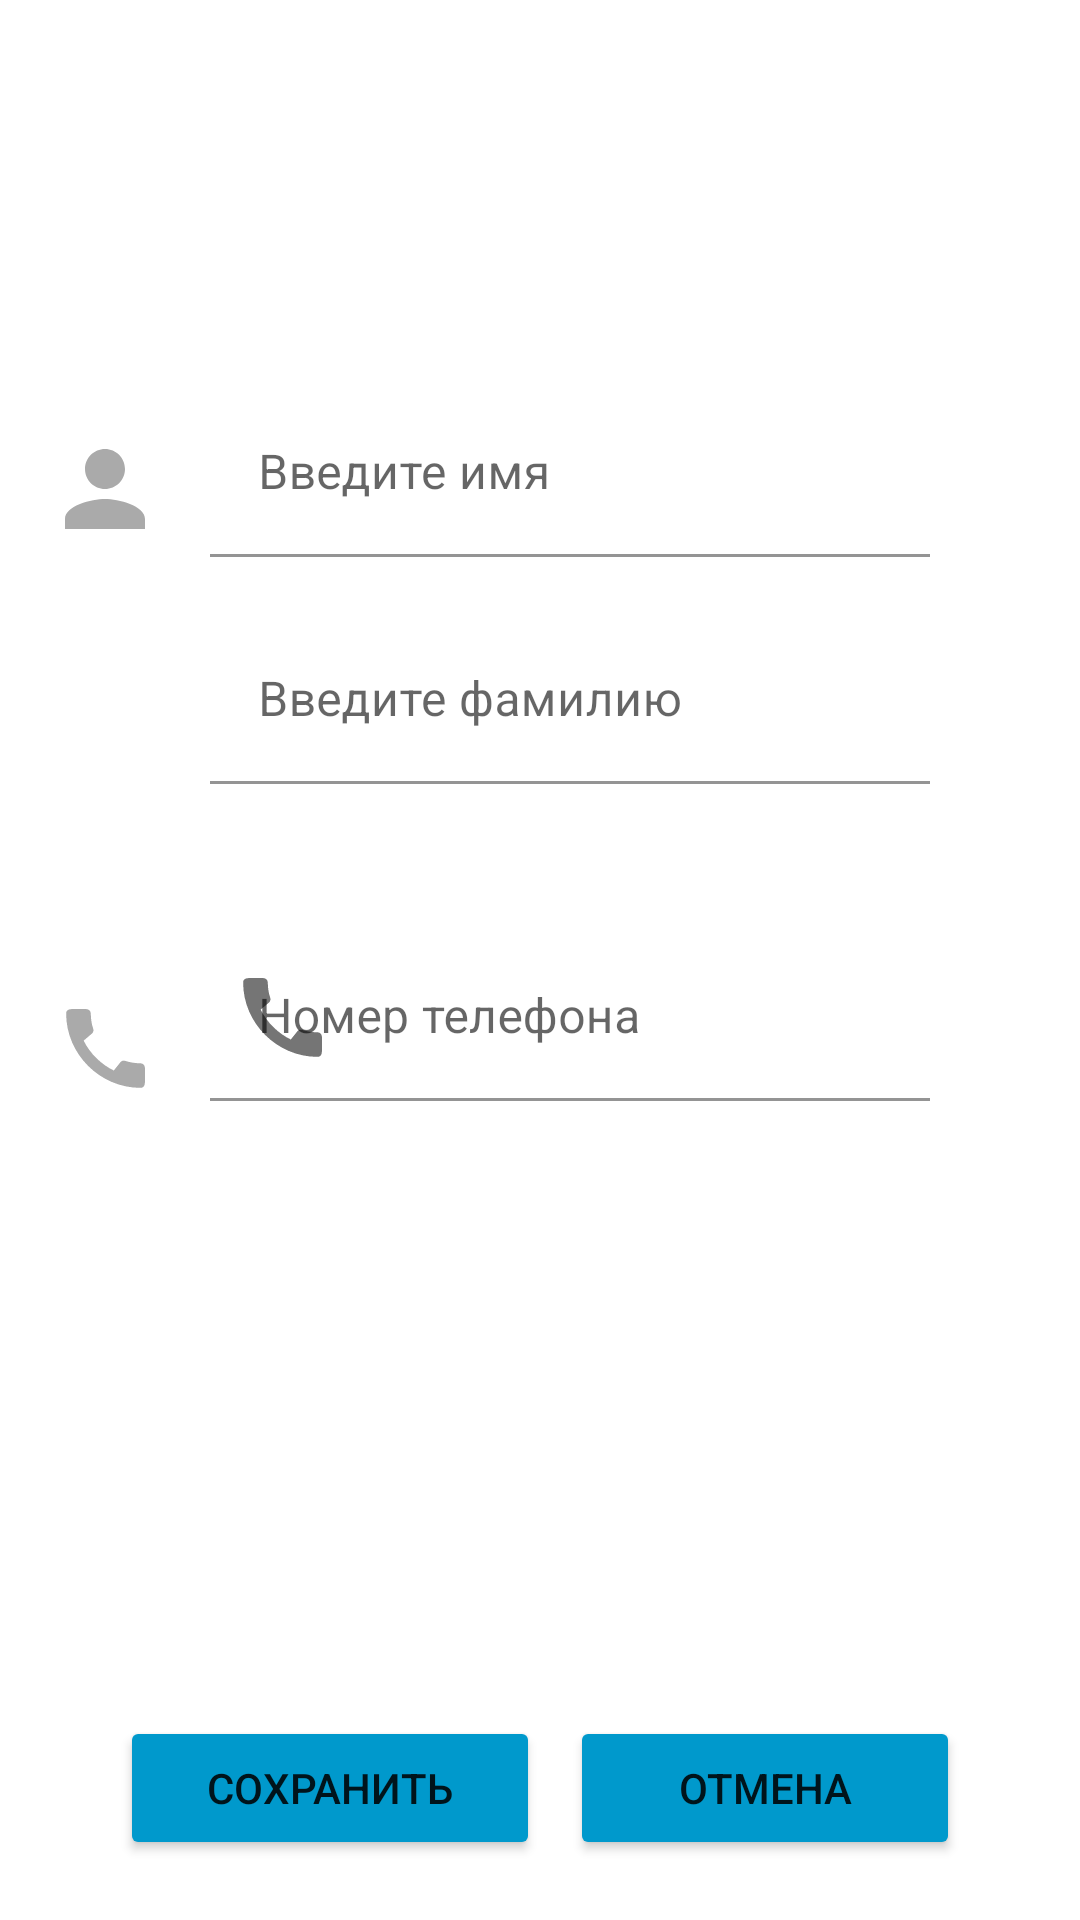

Icons on this 1080px×1920px Android screen, each with its box as (x1, y1, x2, y2):
contact pic: (65, 449, 145, 529)
phone: (66, 1009, 145, 1088)
